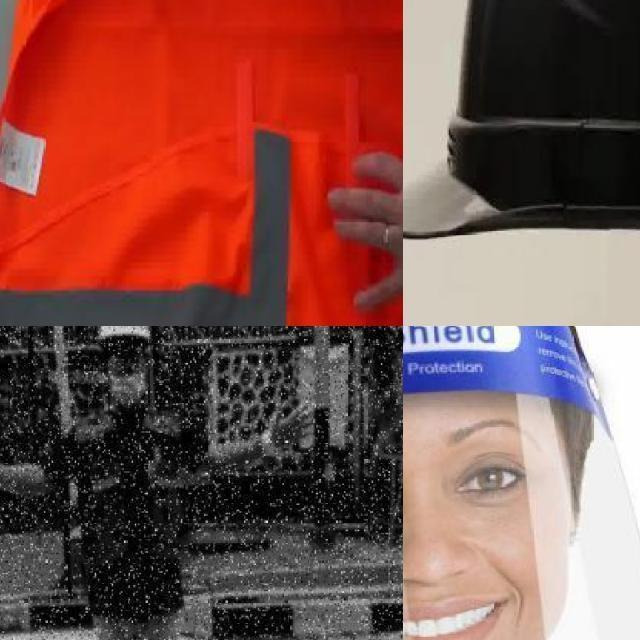apron: (261, 401, 315, 458)
